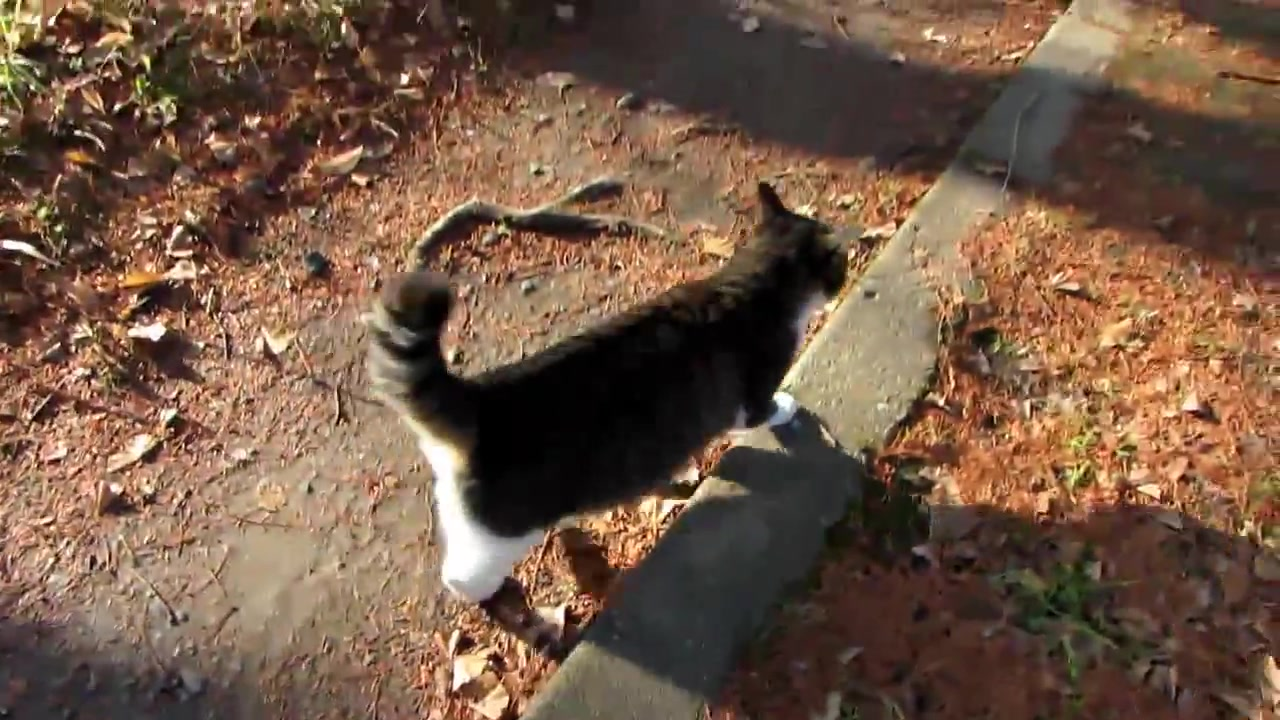cat: (370, 179, 867, 611)
